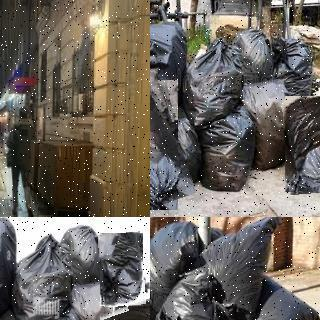Garbage: (199, 217, 282, 320), (238, 73, 299, 174), (198, 101, 257, 193), (185, 34, 243, 125), (150, 75, 187, 214), (150, 265, 243, 320), (13, 234, 72, 320), (268, 31, 320, 117), (283, 94, 320, 193), (223, 21, 286, 79), (99, 232, 145, 307), (150, 20, 186, 107), (59, 224, 104, 282), (71, 282, 119, 320), (0, 217, 16, 302)
